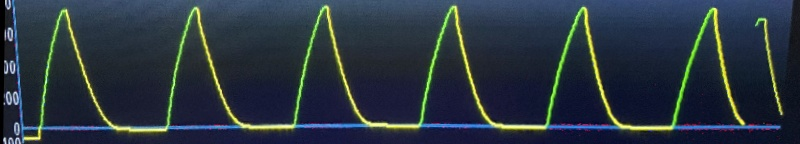normal_volume: (25, 0, 754, 138)
